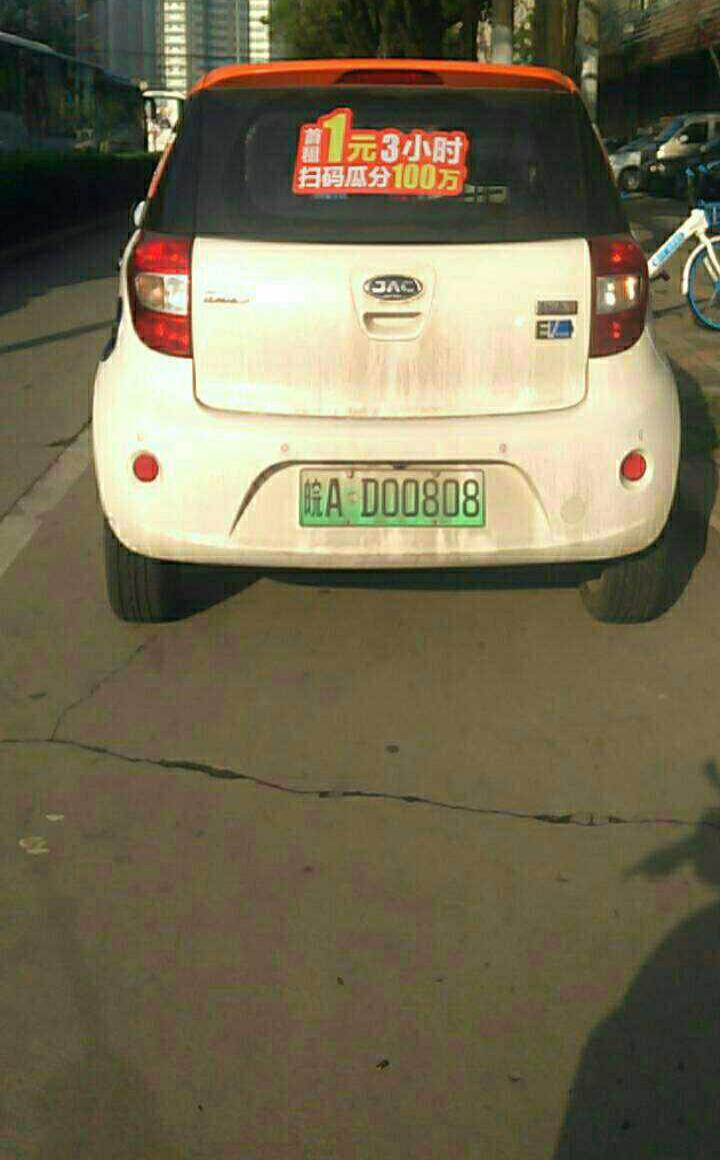car: (294, 464, 492, 535)
